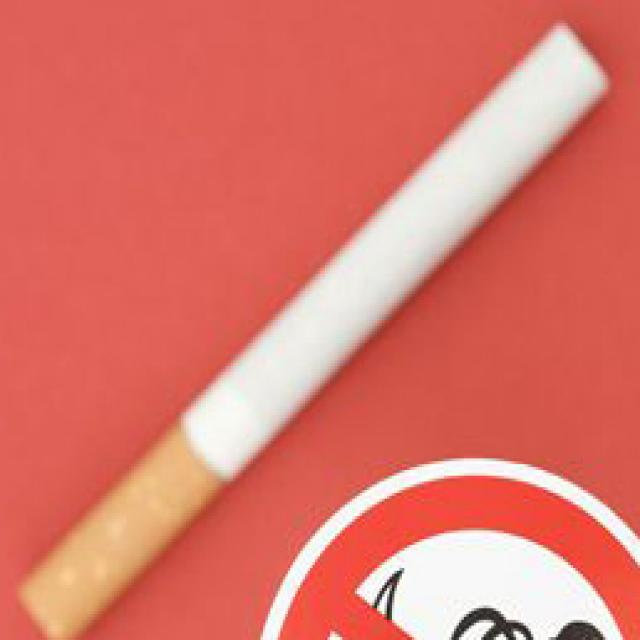smoking: (17, 14, 618, 640)
